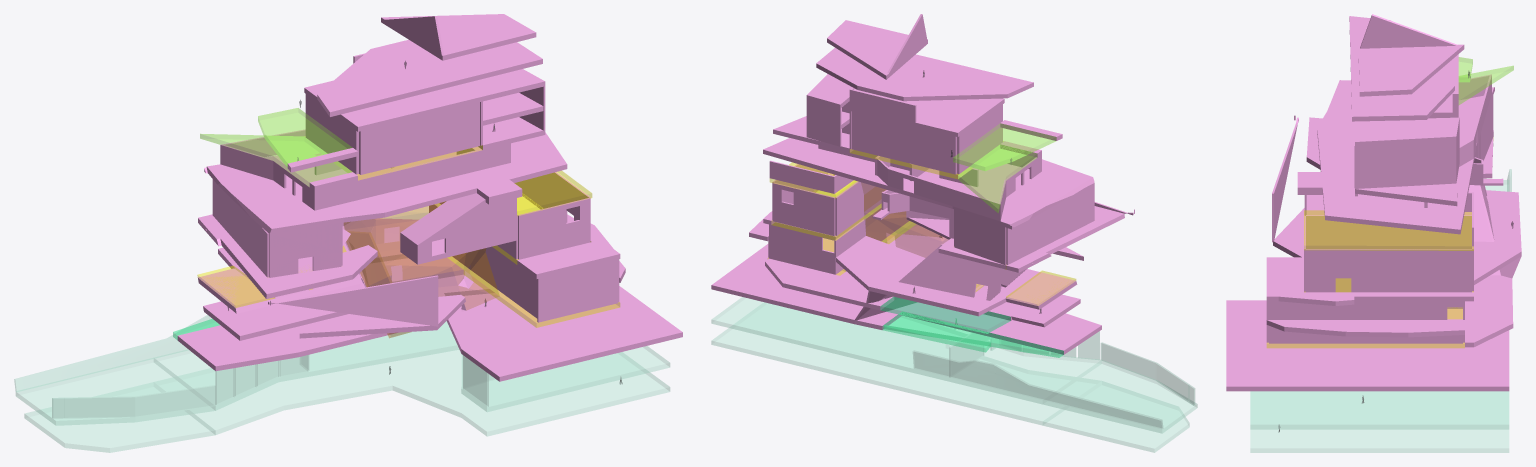
File: 260303_3dmod_exploded-interiors.glb
3 views of the same model, side by side, from view 1: azimuth 30°, elevation 25°; view 2: azimuth 150°, elevation 25°; view 3: azimuth 270°, elevation 25° (orthographic). The views are drawn at different scales.
Visible parts, largest first — view 1: 02_floor_plates.001, 02_floor_plates, 02_floor_plates.003, 02_walls.002, 02_walls, 02_walls.001, 03_stone_cladding.001, 02_floor_plates.004, 03_stone_cladding, 02_immersive-spaces_floorplates.001, 02_immersive-spaces_floorplates.002, 02_immersive-spaces_floorplates; view 2: 02_floor_plates.003, 02_walls, 02_floor_plates.001, 02_walls.001, 02_floor_plates, 02_floor_plates.002, 02_floor_plates.004, 03_stone_cladding, 02_walls.002, 02_immersive-spaces_floorplates.001, 02_immersive-spaces_floorplates.002, 03_stone_cladding.001 (+1 smaller); view 3: 02_floor_plates.003, 02_floor_plates, 02_walls, 02_floor_plates.001, 02_walls.002, 02_immersive-spaces_floorplates.001, 02_floor_plates.004.
Part boxes in pixels (x1=…): 02_floor_plates.001: x1=16, y1=321, x2=669, y2=452; 02_floor_plates: x1=247, y1=31, x2=682, y2=381; 02_floor_plates.003: x1=177, y1=14, x2=573, y2=371; 02_walls.002: x1=259, y1=40, x2=619, y2=326; 02_walls: x1=205, y1=16, x2=559, y2=287; 02_walls.001: x1=14, y1=315, x2=495, y2=418; 03_stone_cladding.001: x1=366, y1=202, x2=499, y2=337; 02_floor_plates.004: x1=200, y1=108, x2=352, y2=186; 03_stone_cladding: x1=344, y1=202, x2=488, y2=337; 02_immersive-spaces_floorplates.001: x1=435, y1=171, x2=619, y2=327; 02_immersive-spaces_floorplates.002: x1=197, y1=246, x2=346, y2=307; 02_immersive-spaces_floorplates: x1=334, y1=145, x2=482, y2=180; 02_floor_plates.003: x1=711, y1=22, x2=1101, y2=354; 02_walls: x1=768, y1=14, x2=1081, y2=320; 02_floor_plates.001: x1=711, y1=297, x2=1197, y2=452; 02_walls.001: x1=913, y1=331, x2=1194, y2=429; 02_floor_plates: x1=823, y1=20, x2=1134, y2=260; 02_floor_plates.002: x1=880, y1=297, x2=1063, y2=357; 02_floor_plates.004: x1=953, y1=123, x2=1056, y2=212; 03_stone_cladding: x1=861, y1=183, x2=947, y2=257; 02_walls.002: x1=821, y1=32, x2=1133, y2=240; 02_immersive-spaces_floorplates.001: x1=768, y1=162, x2=915, y2=275; 02_immersive-spaces_floorplates.002: x1=975, y1=266, x2=1075, y2=305; 03_stone_cladding.001: x1=883, y1=212, x2=938, y2=241; 02_floor_plates.003: x1=1364, y1=17, x2=1521, y2=391; 02_floor_plates: x1=1226, y1=16, x2=1364, y2=391; 02_walls: x1=1364, y1=14, x2=1521, y2=343; 02_floor_plates.001: x1=1250, y1=180, x2=1509, y2=452; 02_walls.002: x1=1266, y1=35, x2=1364, y2=343; 02_immersive-spaces_floorplates.001: x1=1267, y1=210, x2=1473, y2=347; 02_floor_plates.004: x1=1458, y1=57, x2=1513, y2=104.
Bounding box in the file's own units: 11.18 × 7.62 × 5.7.
